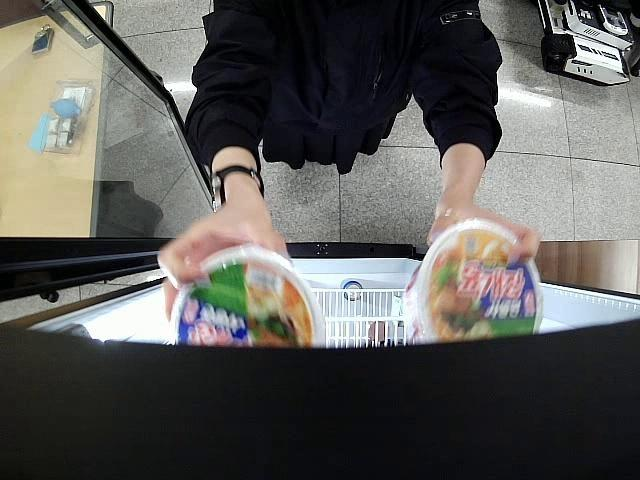09_yukGaeJang: (404, 218, 542, 345), (168, 246, 327, 349)
